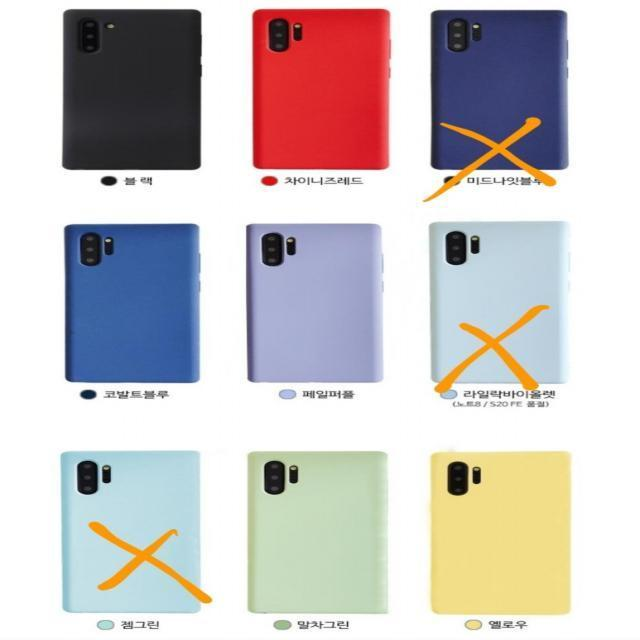phone: (430, 450, 572, 616), (248, 450, 390, 614), (62, 8, 202, 170), (251, 8, 391, 170), (245, 222, 385, 384), (65, 224, 202, 384)
